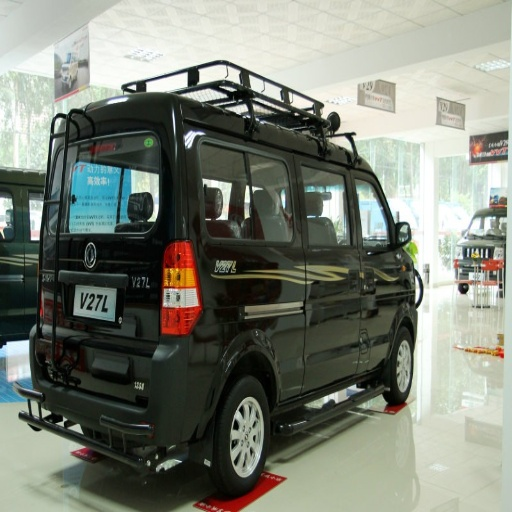back_bumper: (23, 336, 212, 452)
trunk: (203, 162, 348, 409), (43, 238, 167, 382)
